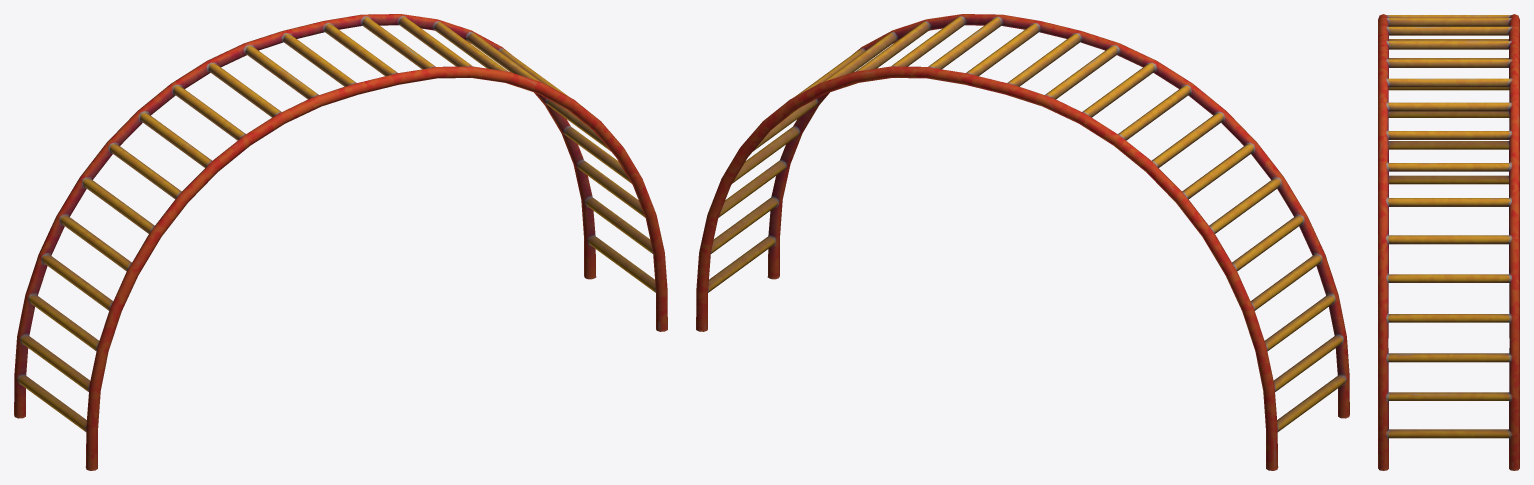
The model's file is childrens_ladder.gltf.
3 views of the same model, side by side, from view 1: azimuth 30°, elevation 25°; view 2: azimuth 150°, elevation 25°; view 3: azimuth 270°, elevation 25° (orthographic). The views are drawn at different scales.
Visible parts, largest first — view 1: ladder; view 2: ladder; view 3: ladder.
Part boxes in pixels (x1,y1,x2,y2): ladder: [14, 14, 667, 470]; ladder: [696, 14, 1349, 470]; ladder: [1378, 14, 1519, 470].
Size of the model in its own units: 3.09 by 1.63 by 0.7158.
1 material, 1 textured.
